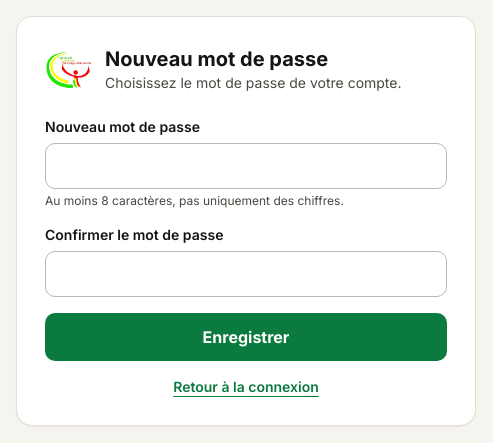
Test: Nouveau mot de passe › mot de passe refusé : erreur sous le champ
This screenshot has width=493, height=443.
Step 1. Type "Nouveau-UCCB-2027!" into the password field labelled "Nouveau mot de passe" → (246, 166), box [45, 143, 447, 189]
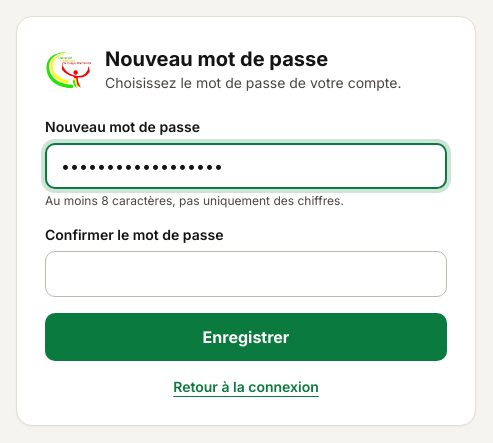
Step 2. Type "Nouveau-UCCB-2027!" into the password field labelled "Confirmer le mot de passe" → (246, 274), box [45, 251, 447, 297]
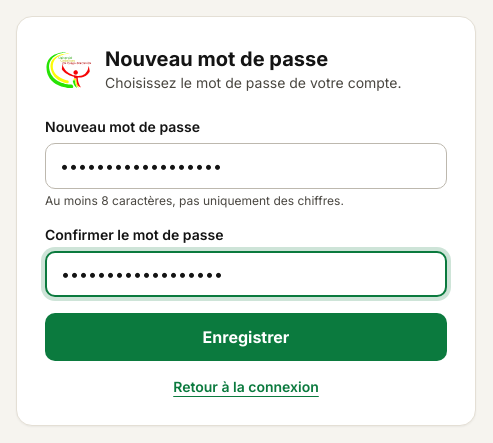
Step 3. Click the button "Enregistrer" → (246, 337), box [45, 313, 447, 361]
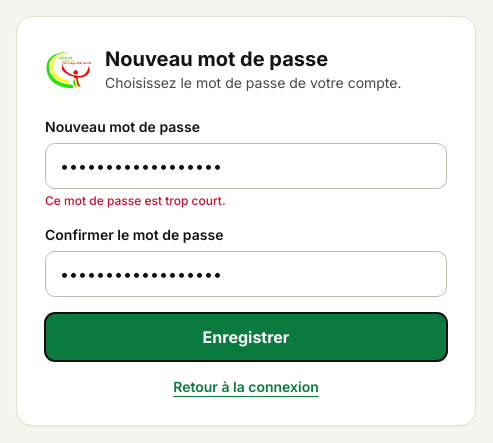
Expected: the text "Ce mot de passe est trop court." is shown, [45, 193, 226, 208]
